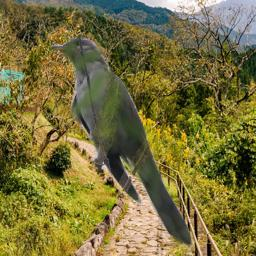Cuckoo: (50, 37, 199, 249)
